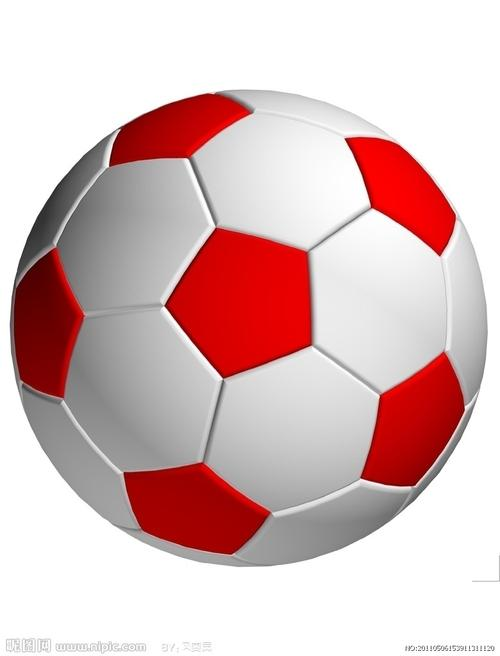football: (14, 85, 482, 571)
